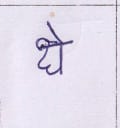e_matra: (46, 21, 65, 41)
